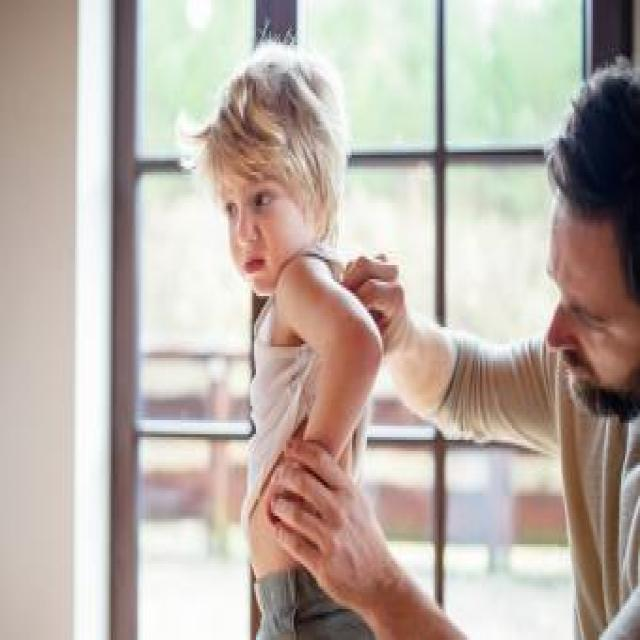adult: (277, 59, 638, 640)
child: (192, 41, 386, 640)
